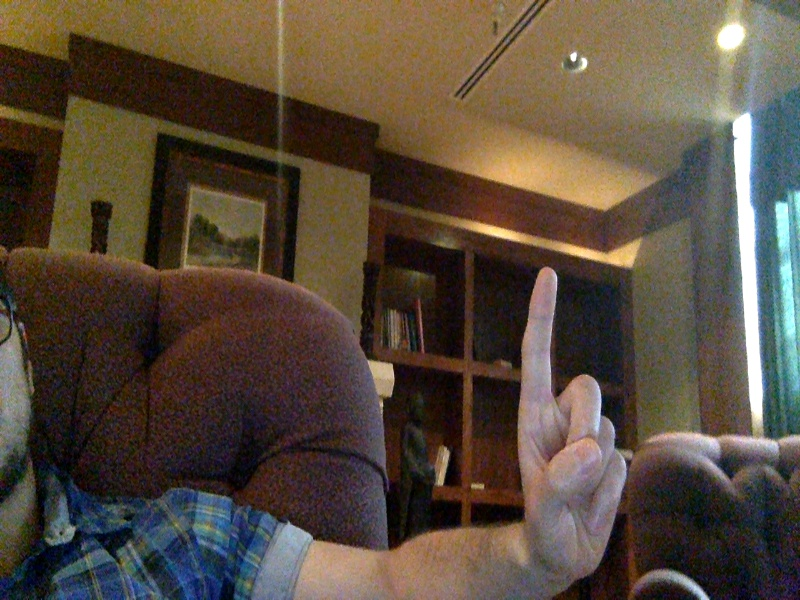1-hand: (518, 264, 627, 587)
